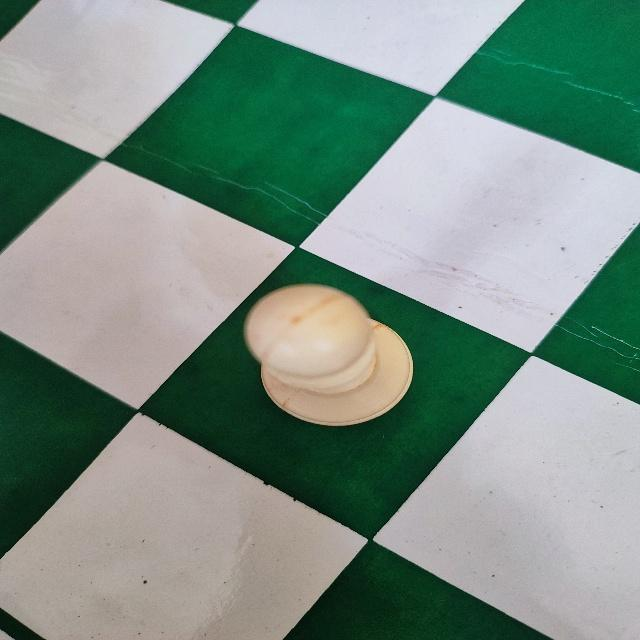Pawn: (242, 281, 417, 429)
